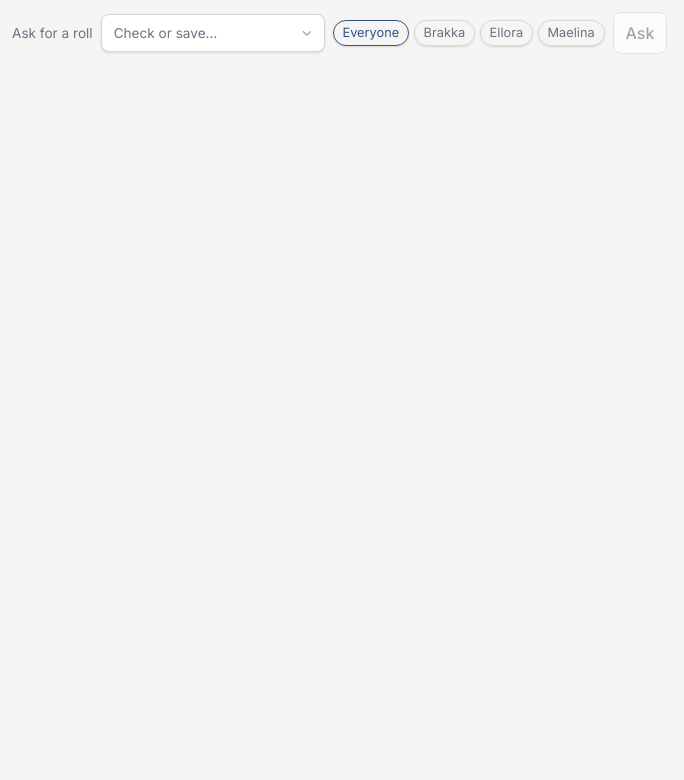
the roll call's check picker › matches the word a table actually says, so 'save' finds the saves
Click the button with aria-label "Which check or save to ask for": (213, 33) [101,14,325,52]
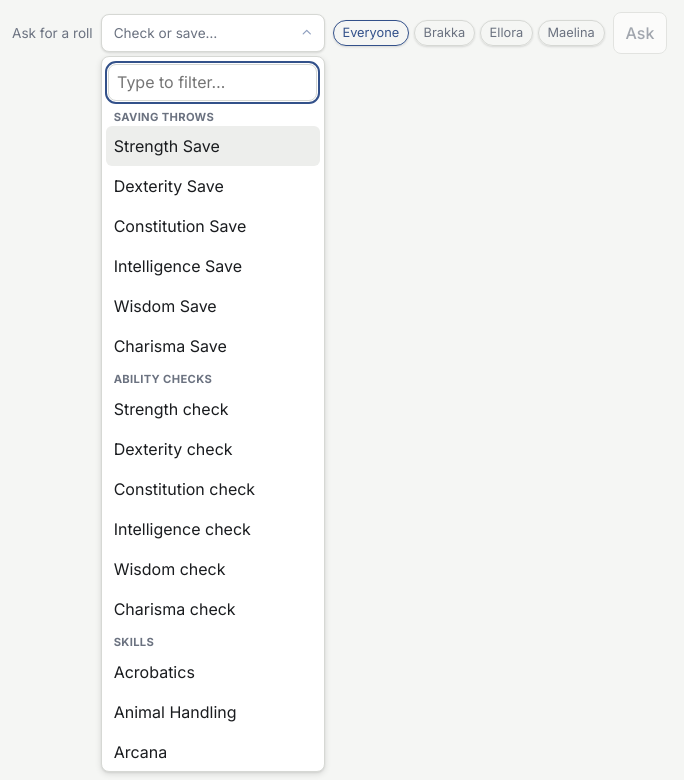
Type keys "save"
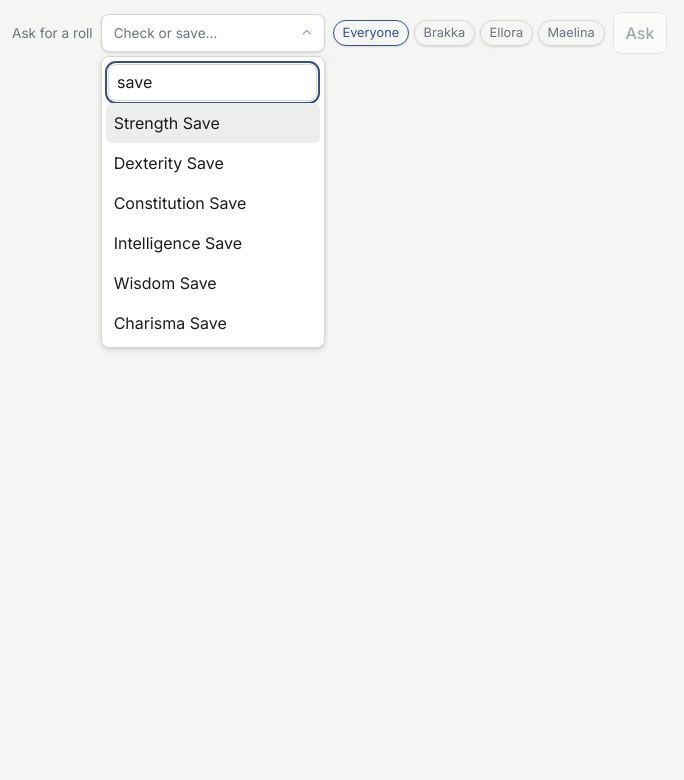
Now the number of options is 6, box [106,103,320,143]; [114,153,224,173]; [114,193,246,213]; [114,233,242,253]; [114,273,217,293]; [114,313,227,333]
